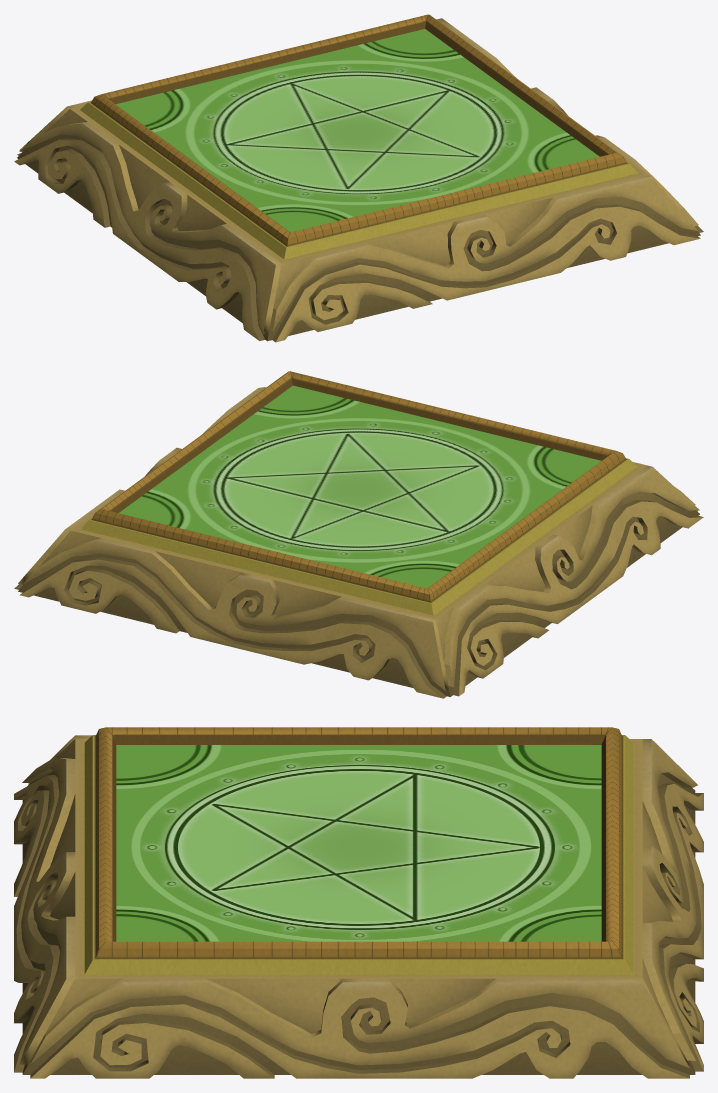
The model's file is Turret_MagicCircle.fbx.
3 renders of one model, top to bottom at view 1: azimuth 30°, elevation 25°; view 2: azimuth 150°, elevation 25°; view 3: azimuth 270°, elevation 25°, orthographic. The views are drawn at different scales.
Visible parts, largest first — view 1: polySurface14, polySurface9; view 2: polySurface14, polySurface9; view 3: polySurface14, polySurface9.
Boxes of the visible parts, left/top/right/bottom form: polySurface14: left=14, top=14, right=703, bottom=342; polySurface9: left=116, top=29, right=599, bottom=232; polySurface14: left=14, top=371, right=703, bottom=698; polySurface9: left=119, top=385, right=601, bottom=588; polySurface14: left=14, top=727, right=703, bottom=1078; polySurface9: left=116, top=745, right=601, bottom=941.
Size of the model in its own units: 103 by 16.12 by 103.
